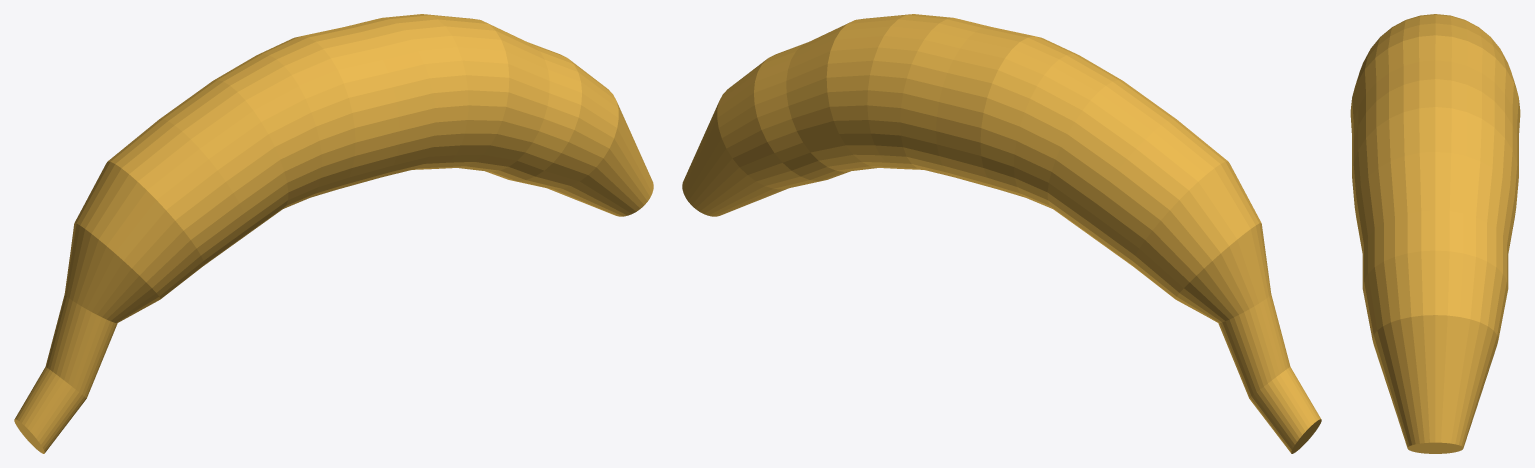
File: Banana.glb
3 renders of one model, left to right at view 1: azimuth 30°, elevation 25°; view 2: azimuth 150°, elevation 25°; view 3: azimuth 270°, elevation 25°, orthographic. The views are drawn at different scales.
Parts seen in each view (by area): view 1: Banana; view 2: Banana; view 3: Banana.
Part boxes in pixels (left/top/right/bottom): Banana: left=14, top=14, right=653, bottom=453; Banana: left=682, top=14, right=1321, bottom=453; Banana: left=1350, top=14, right=1520, bottom=453.
Size of the model in its own units: 4.28 by 2.22 by 0.9311.
